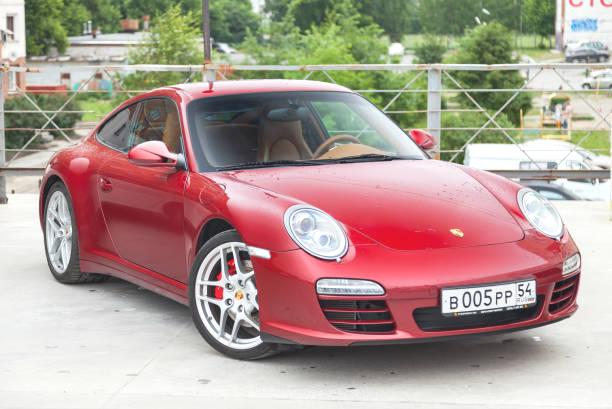porsche: (444, 224, 469, 244)
